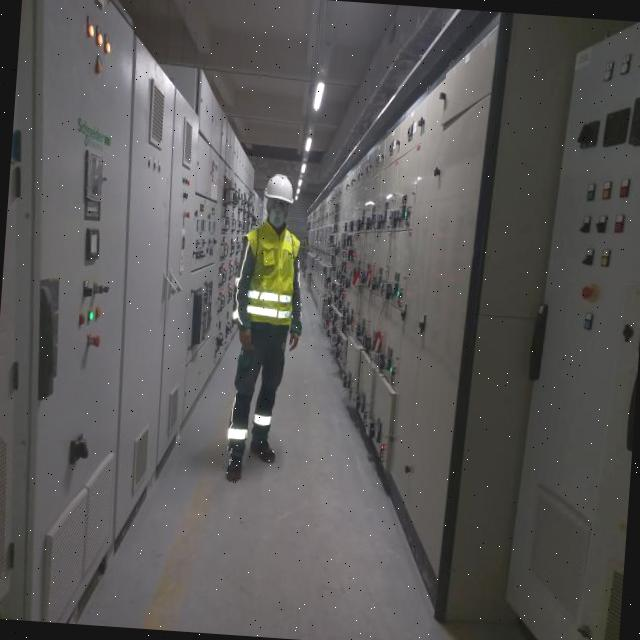helmet: (264, 171, 298, 205)
vest: (239, 218, 303, 333)
